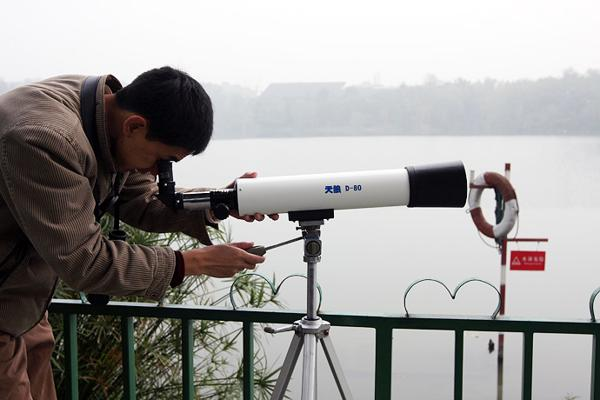person: (3, 69, 263, 398)
